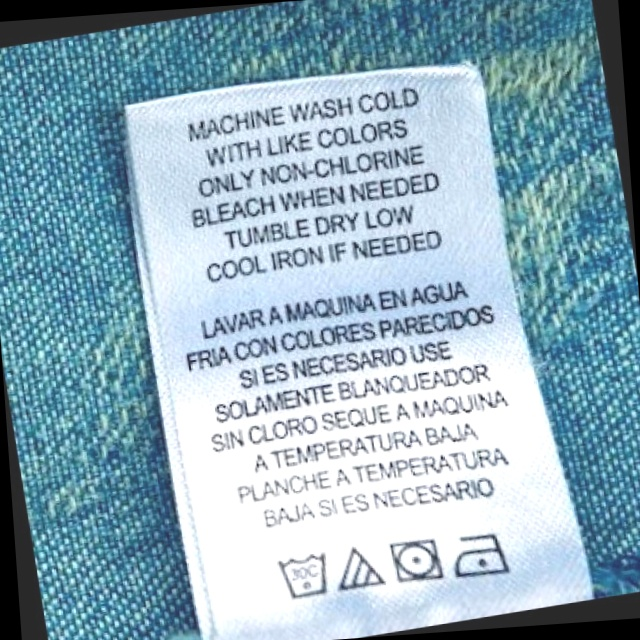30C: (274, 540, 337, 604)
iron_low: (445, 524, 512, 585)
non_chlorine_bleach: (334, 541, 384, 594)
tumble_dry_low: (385, 529, 455, 592)
